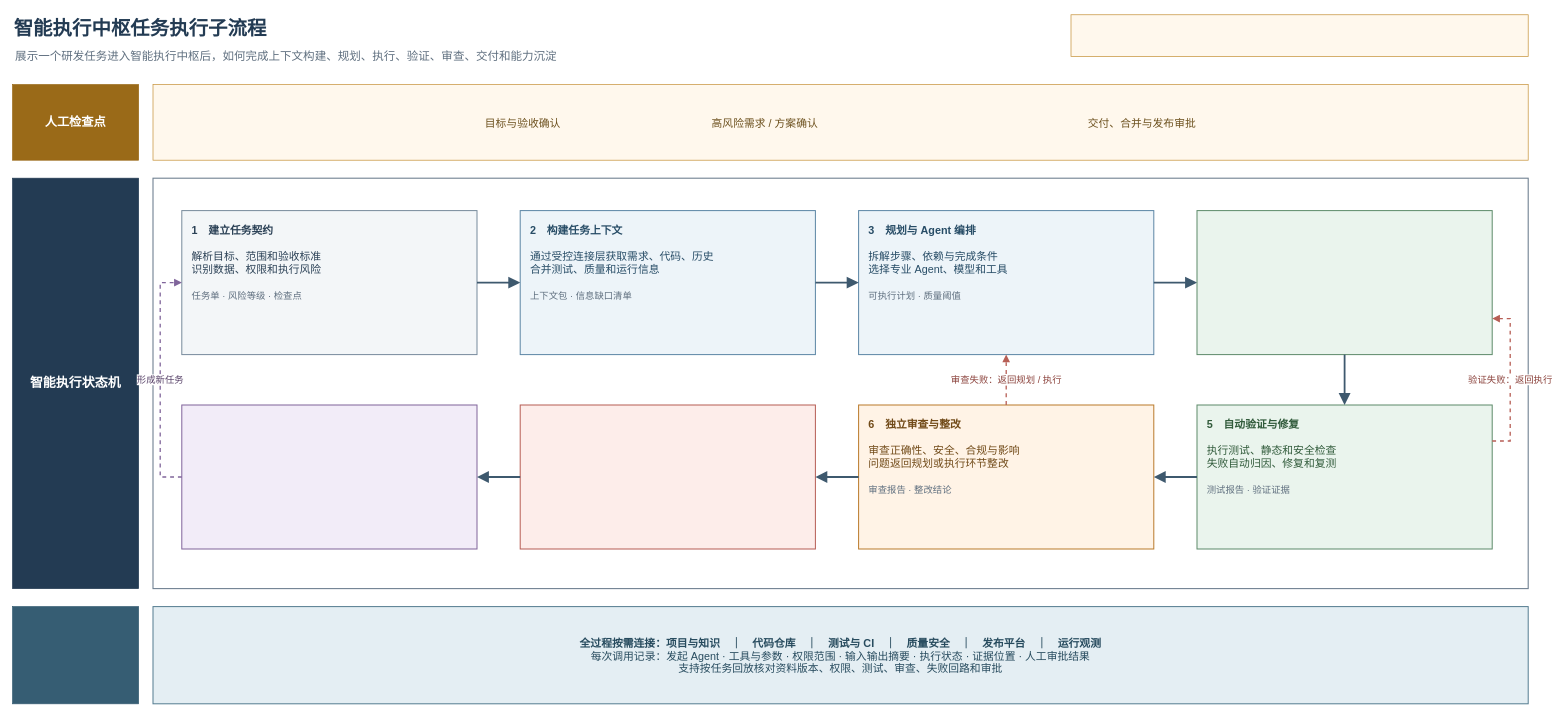
The diagram is 1565 pixels wide and 716 high, and some of its shapes have lost their labels. Here are the shapes that lost their labels. From the top down, the centre of each, then its label:
At point 1299,35: "低风险任务按策略自动推进；信息不足、持续失败、越界或中高风险操作进入人工检查点".
At point 1344,282: "4 隔离环境执行 创建受控分支和执行沙箱 实施代码、配置与文档变更 候选变更集 · 决策记录".
At point 329,476: "8 反馈与能力沉淀 处理运行反馈、异常和新需求 更新知识、工作流技能、规则与评价任务 改进资产 · 下一轮任务".
At point 667,476: "7 证据化交付 汇总合并请求、变更、测试和风险材料 人工审批后触发现有交付流程 获批交付包 · 发布状态".
At point 75,655: "受控调用与证据留痕".
